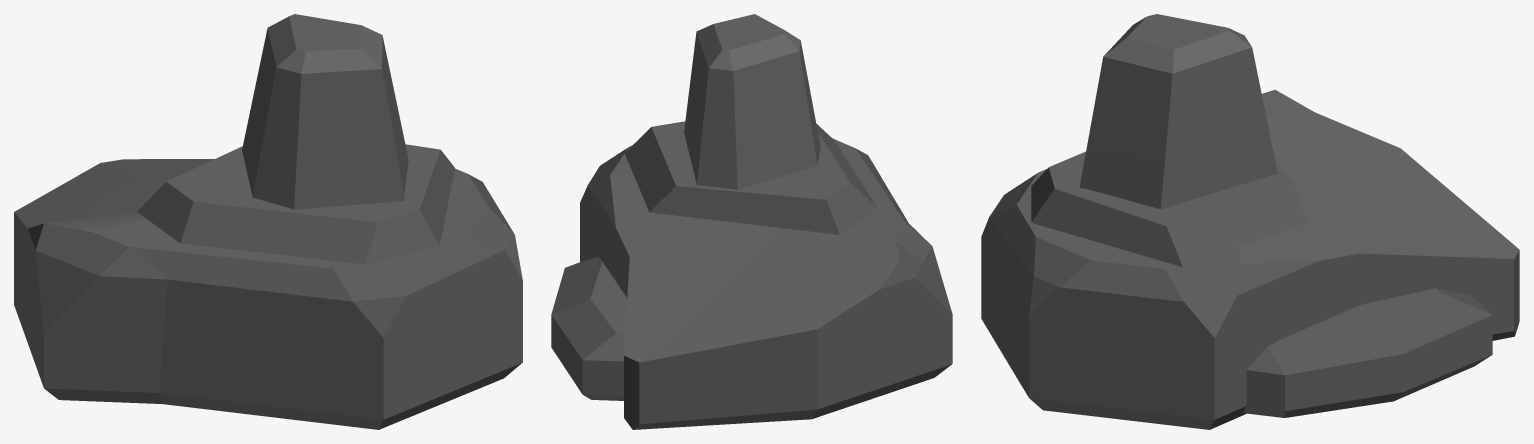
Rendered from WastelandStone2.fbx.
The picture shows the model from 3 angles, left to right: view 1: azimuth 30°, elevation 25°; view 2: azimuth 150°, elevation 25°; view 3: azimuth 270°, elevation 25°; orthographic projection. The views are drawn at different scales.
Parts seen in each view (by area): view 1: WastelandStone2Piece_4, WastelandStone2Piece_3, WastelandStone2Piece_1, WastelandStone2Piece_5, WastelandStone2Piece_2, WastelandStone2Piece_6; view 2: WastelandStone2Piece_5, WastelandStone2Piece_6, WastelandStone2Piece_3, WastelandStone2Piece_1, WastelandStone2Piece_2, WastelandStone2Piece_4; view 3: WastelandStone2Piece_6, WastelandStone2Piece_4, WastelandStone2Piece_1, WastelandStone2Piece_3, WastelandStone2Piece_5, WastelandStone2Piece_2.
Part boxes in pixels (x1,y1,x2,y2): WastelandStone2Piece_4: (44, 168, 522, 429); WastelandStone2Piece_3: (137, 144, 454, 264); WastelandStone2Piece_1: (255, 14, 398, 165); WastelandStone2Piece_5: (14, 163, 161, 387); WastelandStone2Piece_2: (242, 89, 408, 209); WastelandStone2Piece_6: (101, 159, 214, 185); WastelandStone2Piece_5: (633, 228, 952, 429); WastelandStone2Piece_6: (551, 175, 778, 429); WastelandStone2Piece_3: (624, 121, 876, 234); WastelandStone2Piece_1: (688, 14, 814, 129); WastelandStone2Piece_2: (684, 94, 820, 189); WastelandStone2Piece_4: (588, 138, 952, 313); WastelandStone2Piece_6: (1210, 178, 1519, 429); WastelandStone2Piece_4: (981, 169, 1239, 429); WastelandStone2Piece_1: (1086, 14, 1264, 157); WastelandStone2Piece_3: (1031, 151, 1308, 267); WastelandStone2Piece_5: (1261, 89, 1519, 249); WastelandStone2Piece_2: (1079, 107, 1277, 209).
Size of the model in its own units: 235 by 170 by 255.
